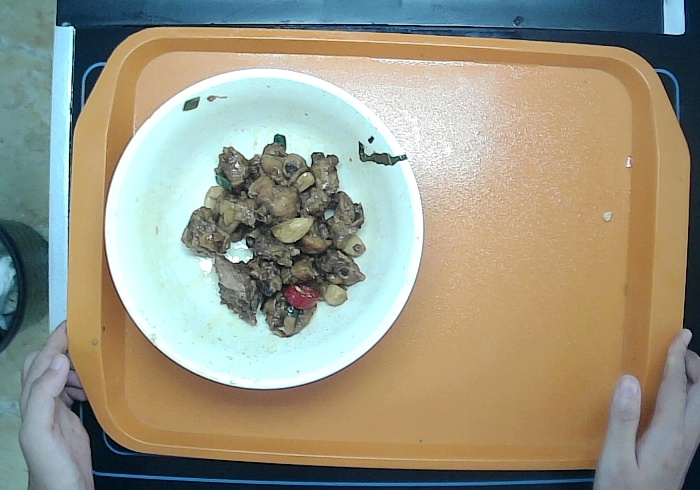ZNLD-Da_Tang_Wan: (102, 66, 425, 392)
